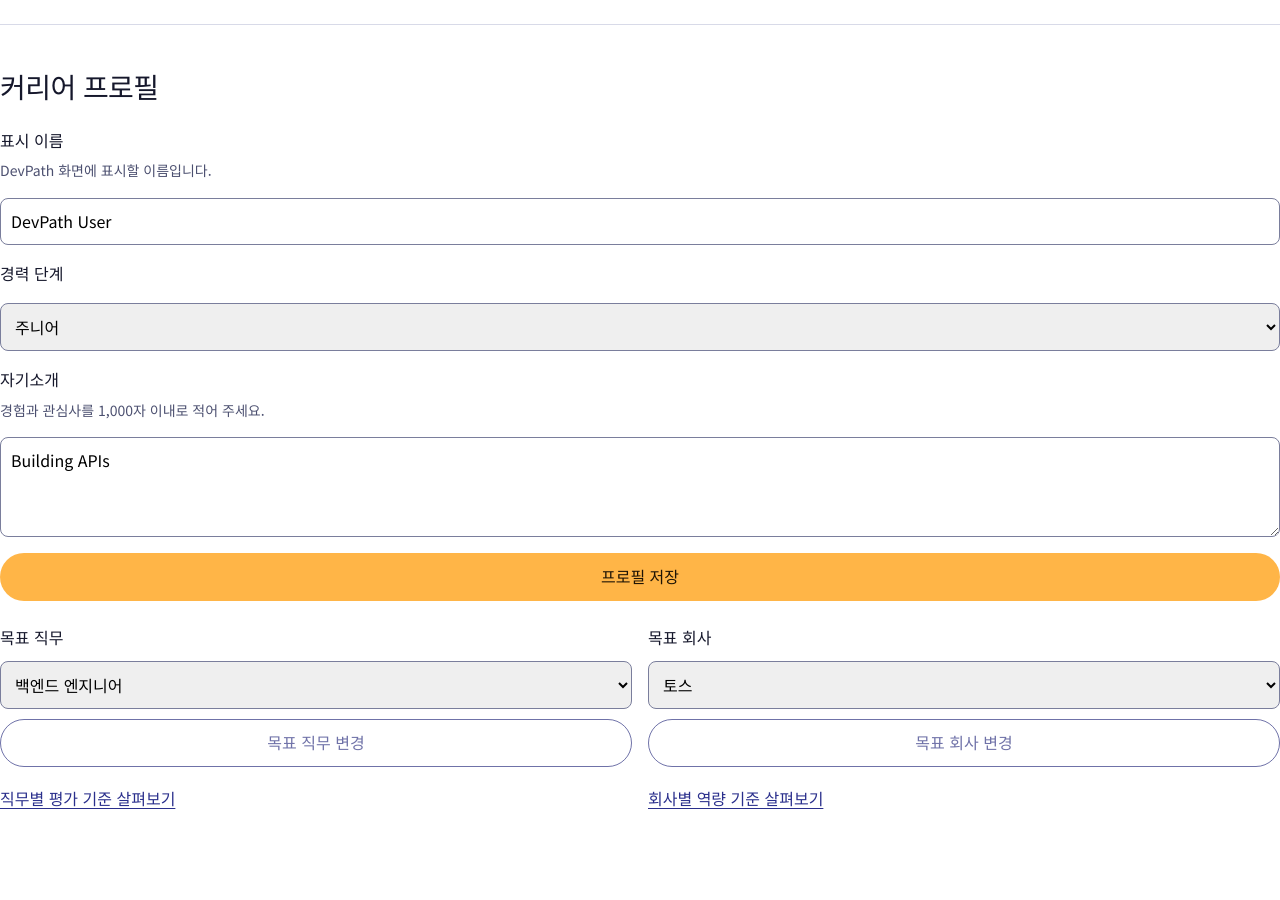
Test: requires an explicit confirmed target change and announces success
The width and height of the screenshot is (1280, 900).
Select "프론트엔드 엔지니어" in the dropdown labelled "목표 직무" at point(316, 685), box [0, 661, 632, 709]
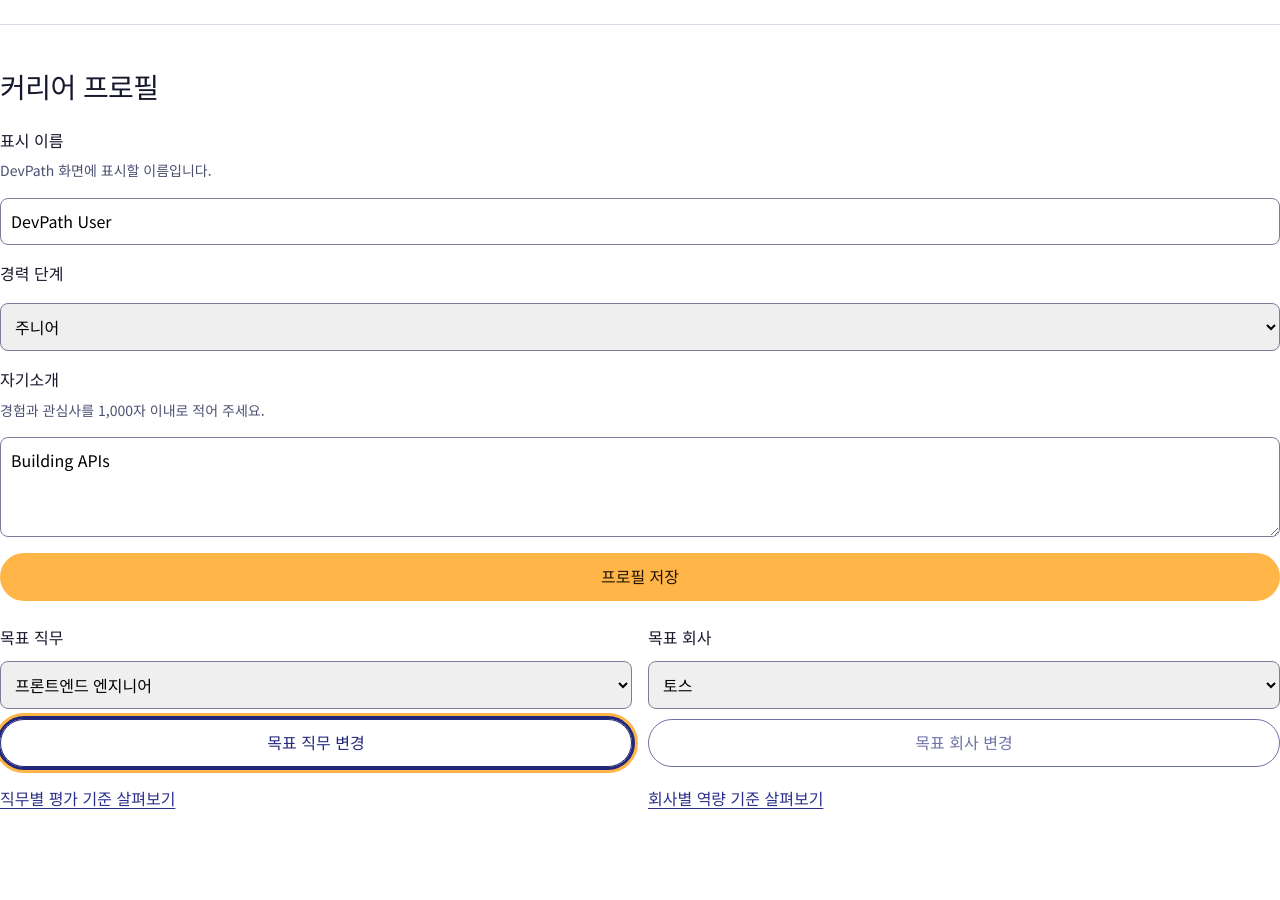
Click the button "목표 직무 변경" at point(316, 743), box [0, 719, 632, 767]
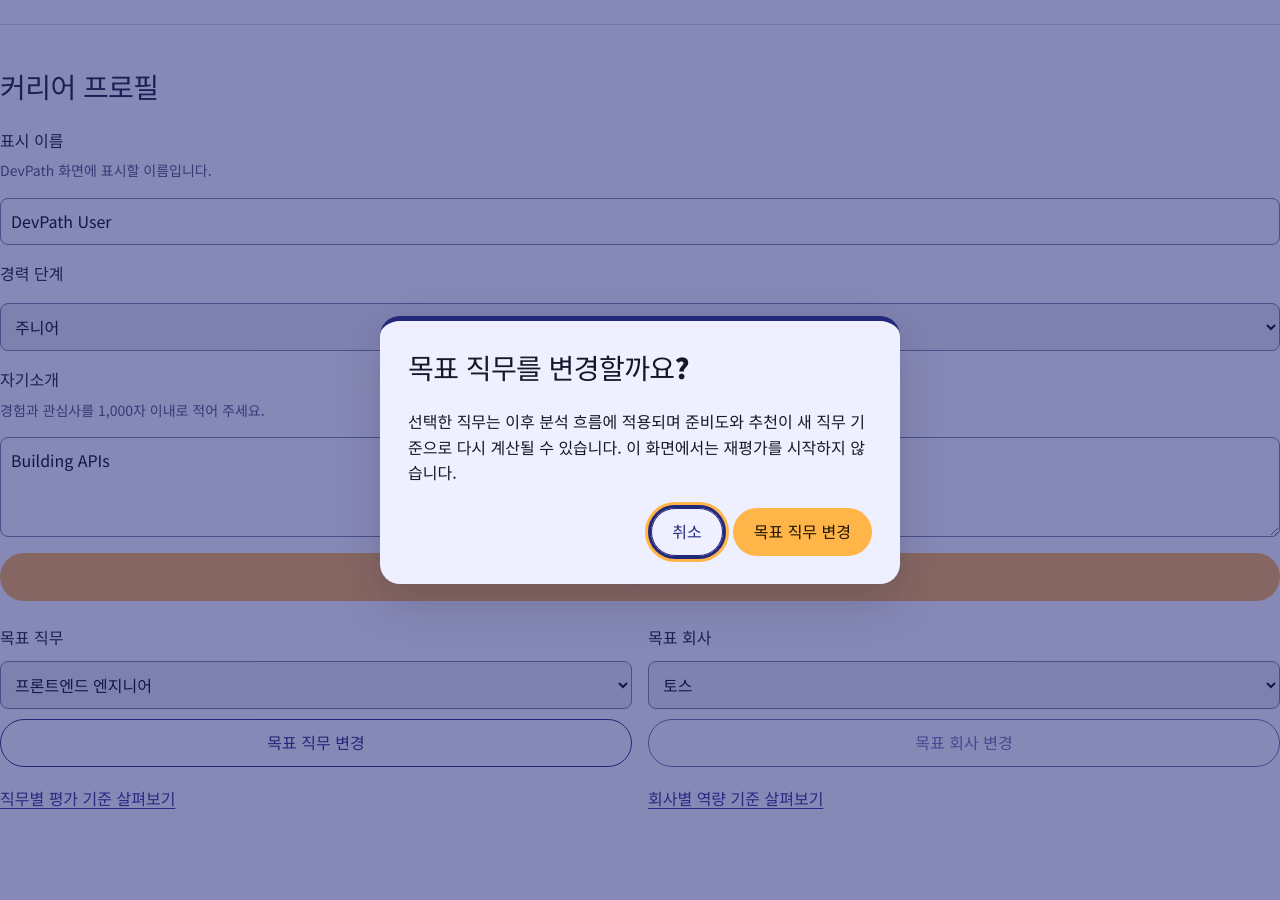
Result: the dialog shows "이 화면에서는 재평가를 시작하지 않습니다" at [408, 409, 865, 484]
Click the button "목표 직무 변경" at point(802, 532), box [733, 508, 872, 556]
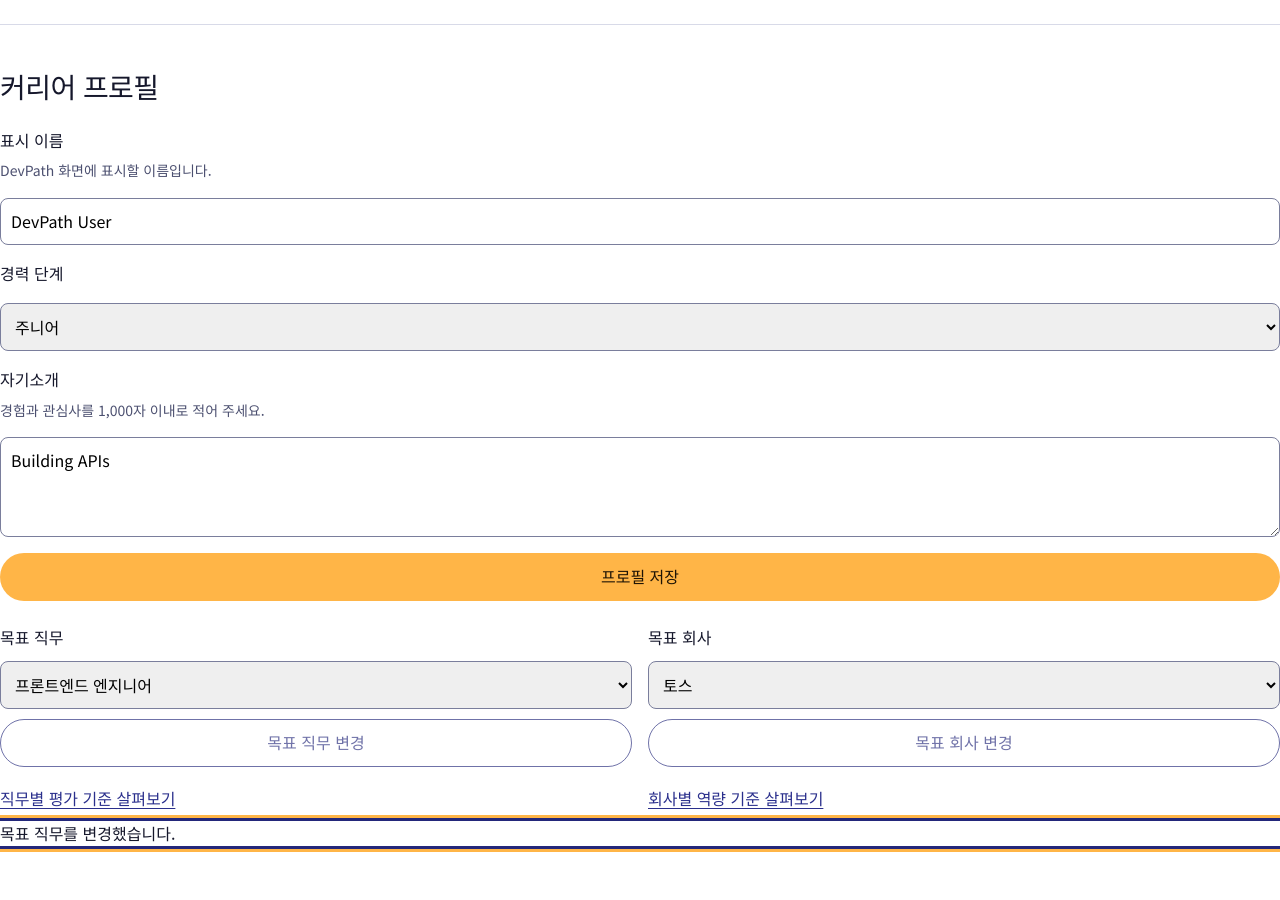
Result: the dialog is gone
